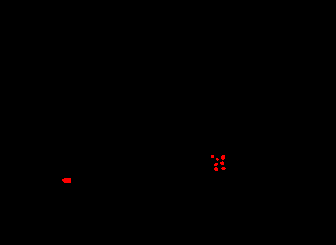Target: (62, 178, 71, 183), (221, 155, 225, 160), (220, 161, 224, 165), (214, 167, 218, 171), (221, 167, 226, 170), (214, 163, 218, 166), (211, 155, 214, 158), (216, 158, 219, 161)
